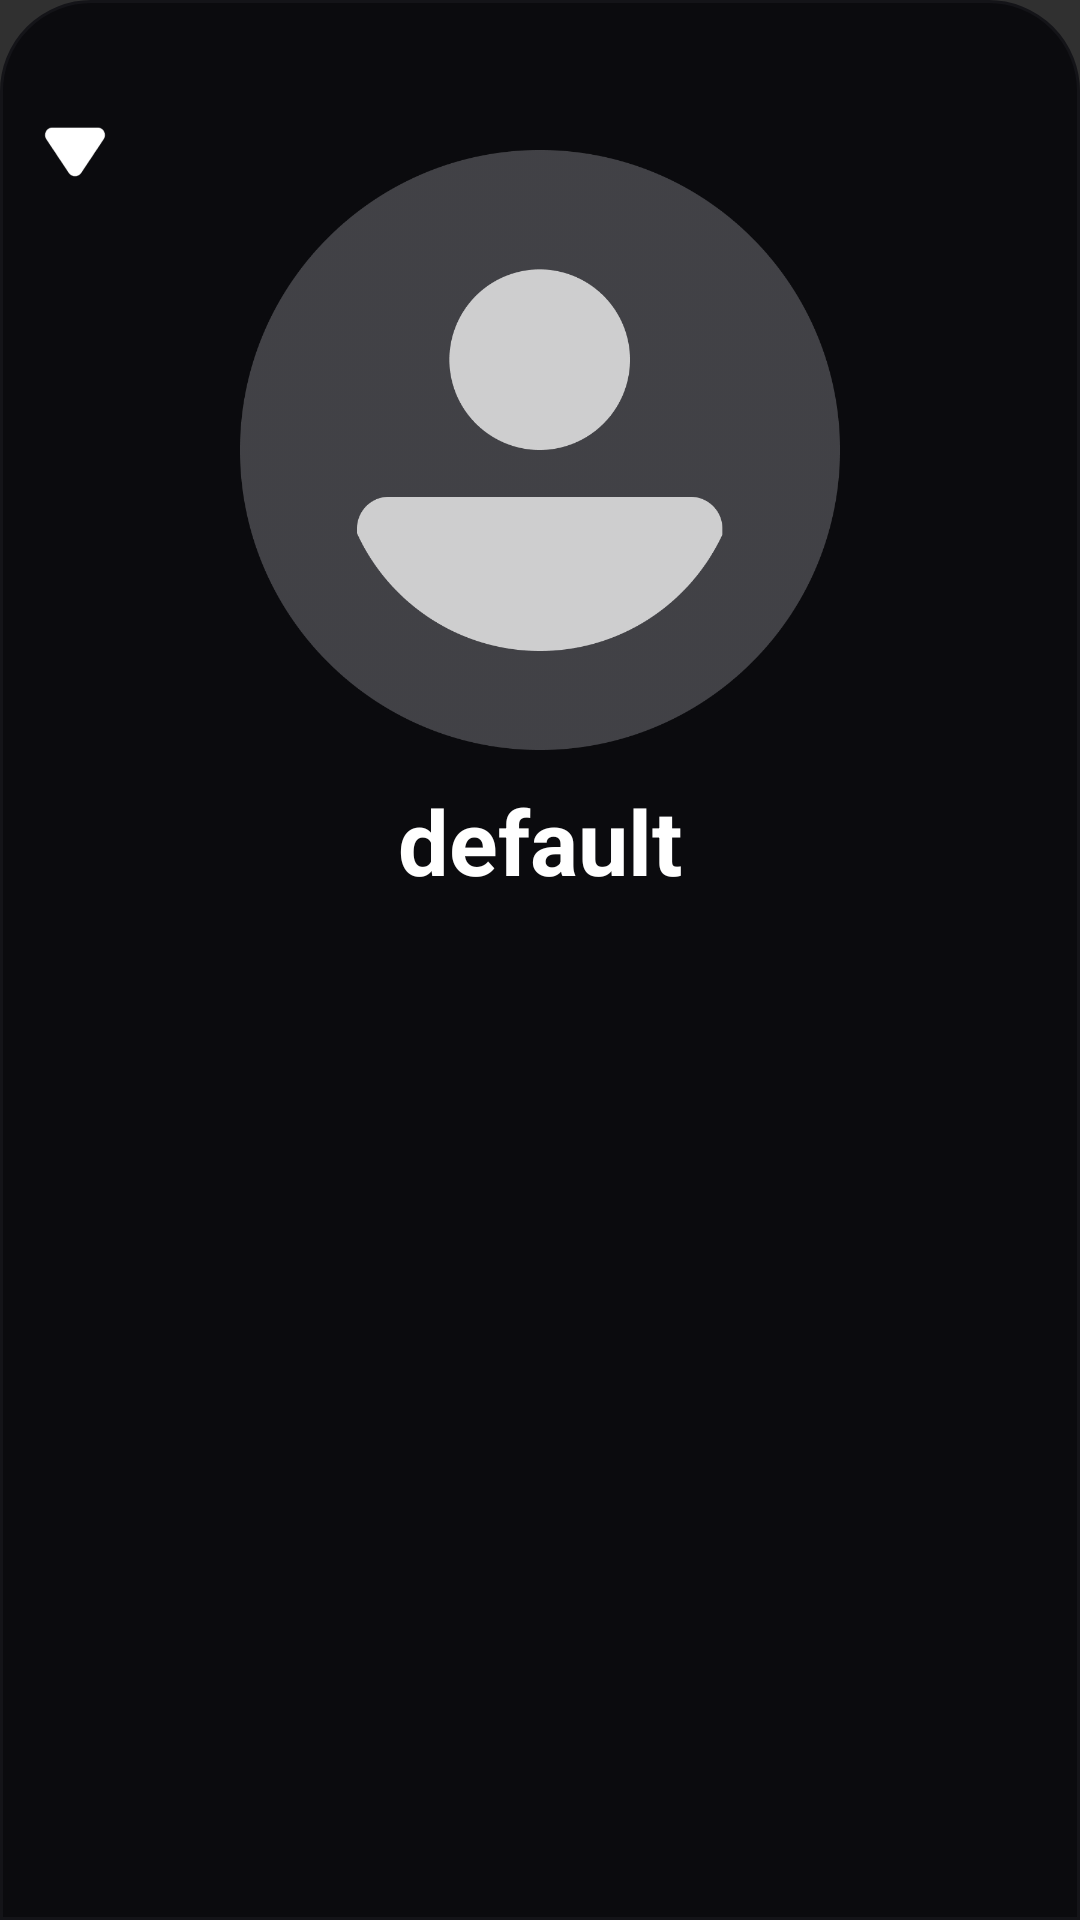

Screen size 1080 × 1920. Icon name, then its box in pixels as (x1, y1, x2, y2):
arrowdown: (45, 127, 105, 177)
